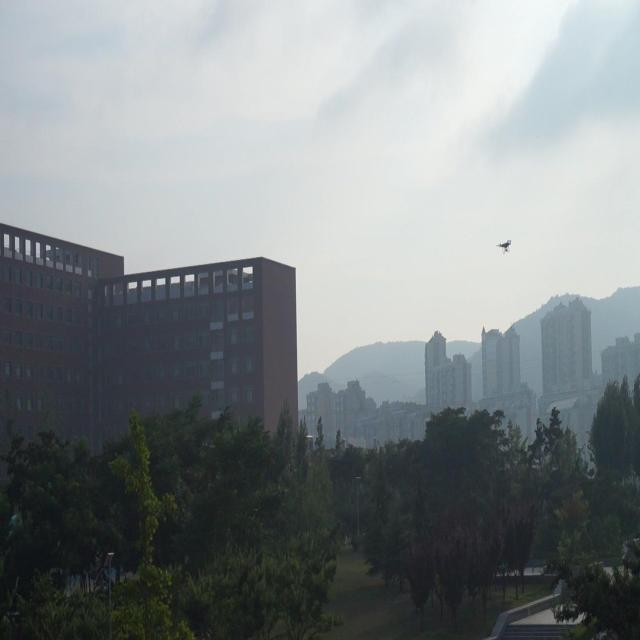drone: (497, 236, 511, 253)
